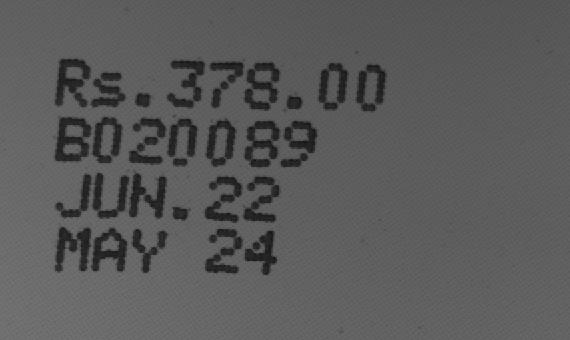.: (130, 82, 158, 111), (280, 88, 310, 112), (171, 199, 196, 224)
0: (352, 60, 393, 117), (314, 57, 352, 115), (163, 115, 201, 169), (89, 113, 124, 165), (203, 119, 239, 167)
2: (201, 171, 248, 225), (201, 224, 247, 278), (124, 116, 170, 167), (240, 174, 284, 224)
3: (164, 57, 208, 111)
4: (239, 225, 286, 280)
7: (201, 60, 246, 114)
8: (241, 60, 283, 113), (242, 120, 283, 169)
9: (278, 116, 319, 172)
A: (89, 227, 129, 272)
B: (52, 112, 93, 165)
J: (54, 171, 94, 220)
M: (51, 223, 95, 275)
N: (127, 174, 169, 221)
R: (53, 55, 93, 110)
S: (90, 70, 127, 111)
U: (90, 170, 130, 221)
Y: (125, 227, 171, 274)
